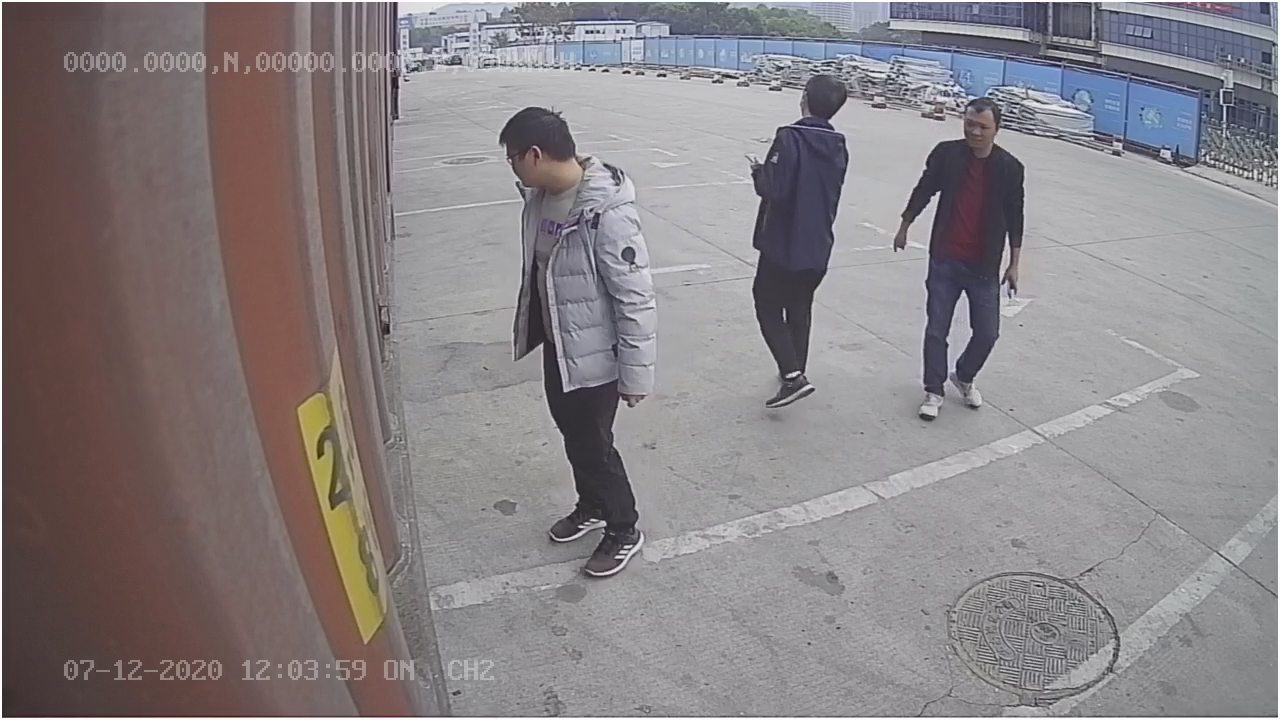person: (491, 101, 672, 581), (894, 84, 1032, 422), (740, 68, 851, 413)
